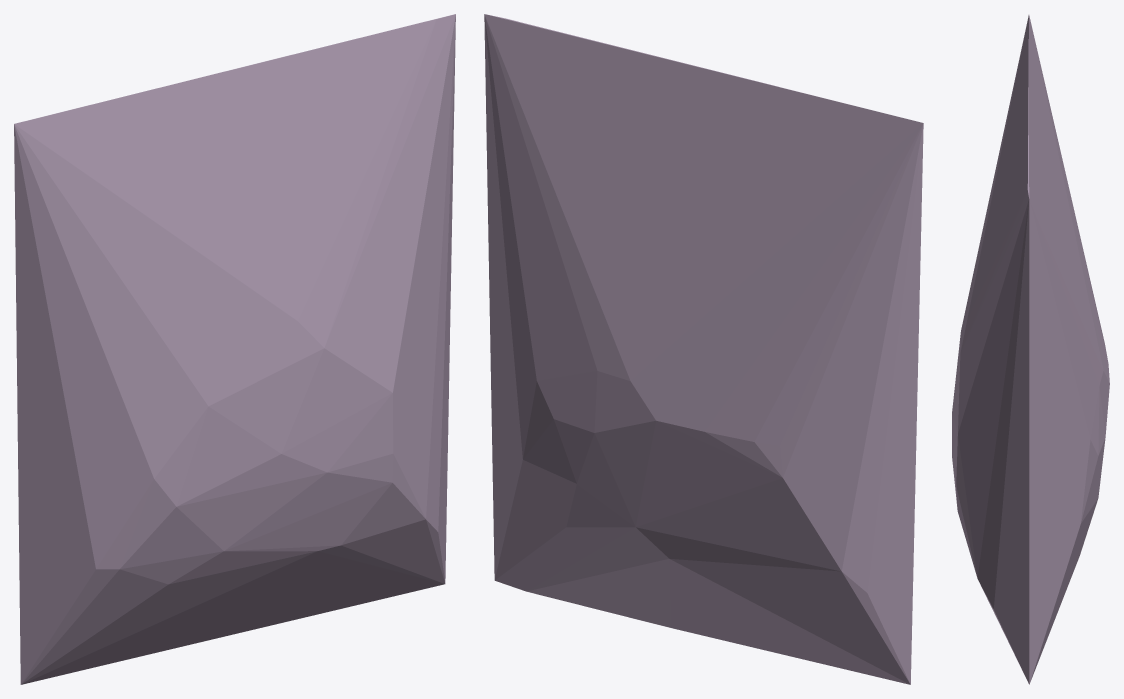
Rendered from food_processed_chips_d01.glb.
3 renders of one model, left to right at view 1: azimuth 30°, elevation 25°; view 2: azimuth 150°, elevation 25°; view 3: azimuth 270°, elevation 25°, orthographic. The views are drawn at different scales.
Parts seen in each view (by area): view 1: geometry_0; view 2: geometry_0; view 3: geometry_0.
Boxes of the visible parts, x1,y1,x2,y2 form: geometry_0: [14, 14, 455, 684]; geometry_0: [484, 14, 923, 684]; geometry_0: [952, 15, 1109, 684].
Size of the model in its own units: 0.3909 by 0.4798 by 0.1399.
